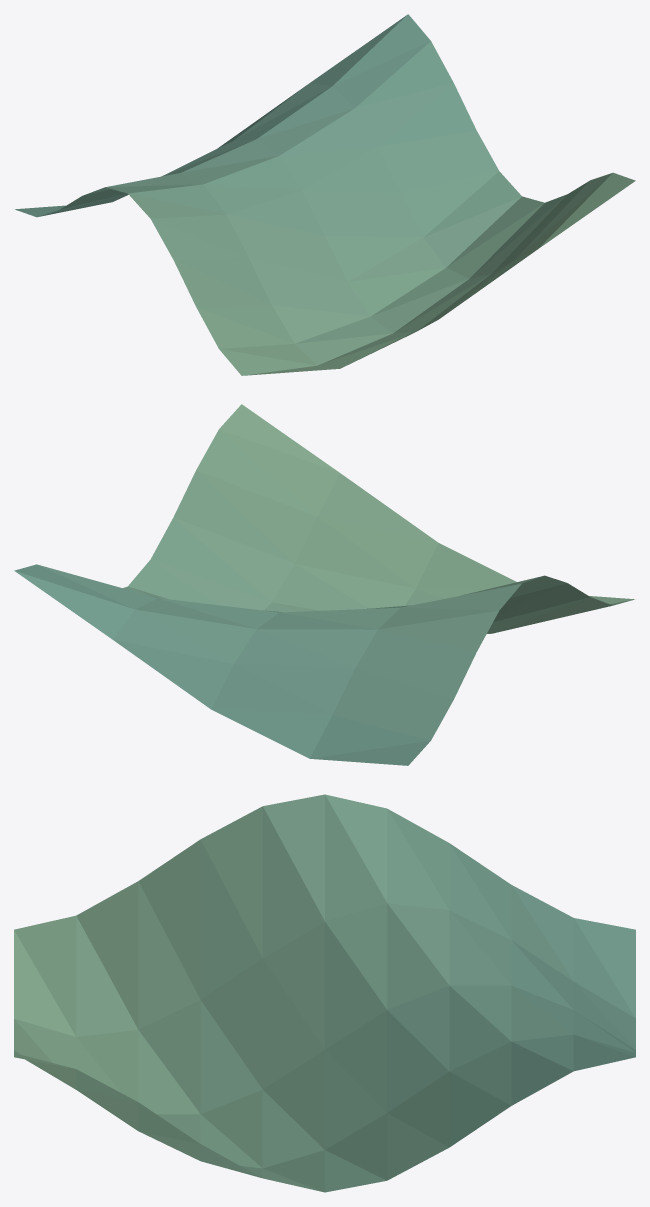
The model's file is Sheet.gltf.
3 renders of one model, top to bottom at view 1: azimuth 30°, elevation 25°; view 2: azimuth 150°, elevation 25°; view 3: azimuth 270°, elevation 25°, orthographic. The views are drawn at different scales.
Parts seen in each view (by area): view 1: Sheet; view 2: Sheet; view 3: Sheet.
Boxes of the visible parts, left/top/right/bottom form: Sheet: left=15, top=14, right=635, bottom=375; Sheet: left=14, top=404, right=634, bottom=765; Sheet: left=14, top=794, right=635, bottom=1192.
Size of the model in its own units: 1 by 0.3341 by 1.
